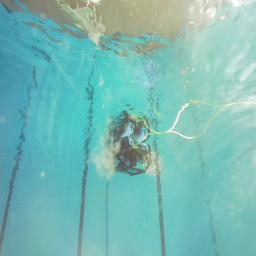back: (105, 136, 151, 176)
